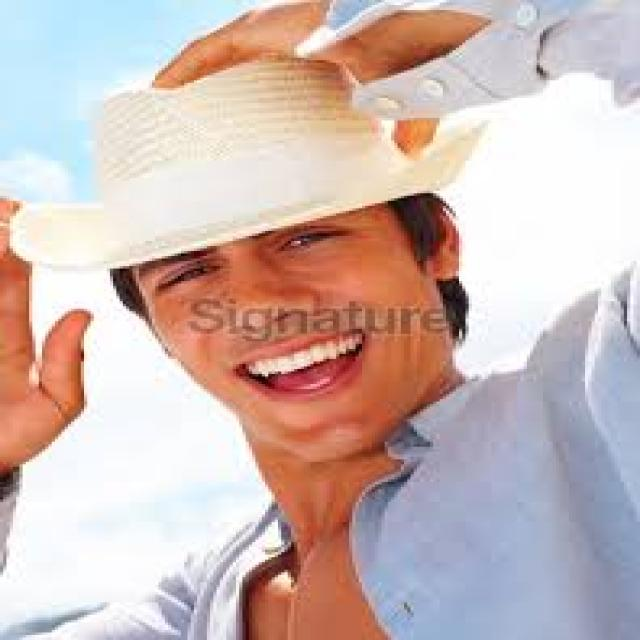hat: (13, 56, 485, 460)
